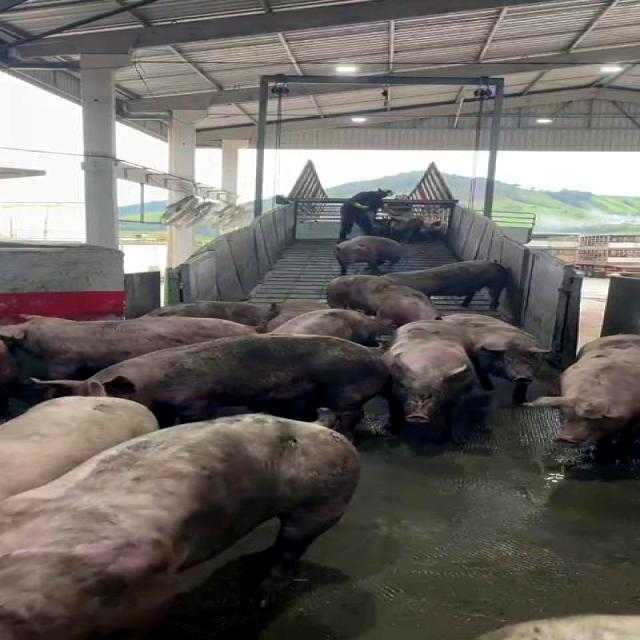pig: (2, 414, 360, 639), (39, 334, 390, 438), (0, 315, 257, 380), (0, 396, 158, 499), (383, 320, 477, 429), (442, 314, 550, 402), (383, 261, 509, 308), (328, 276, 440, 326), (270, 309, 394, 346), (147, 301, 275, 331), (337, 236, 406, 274)
